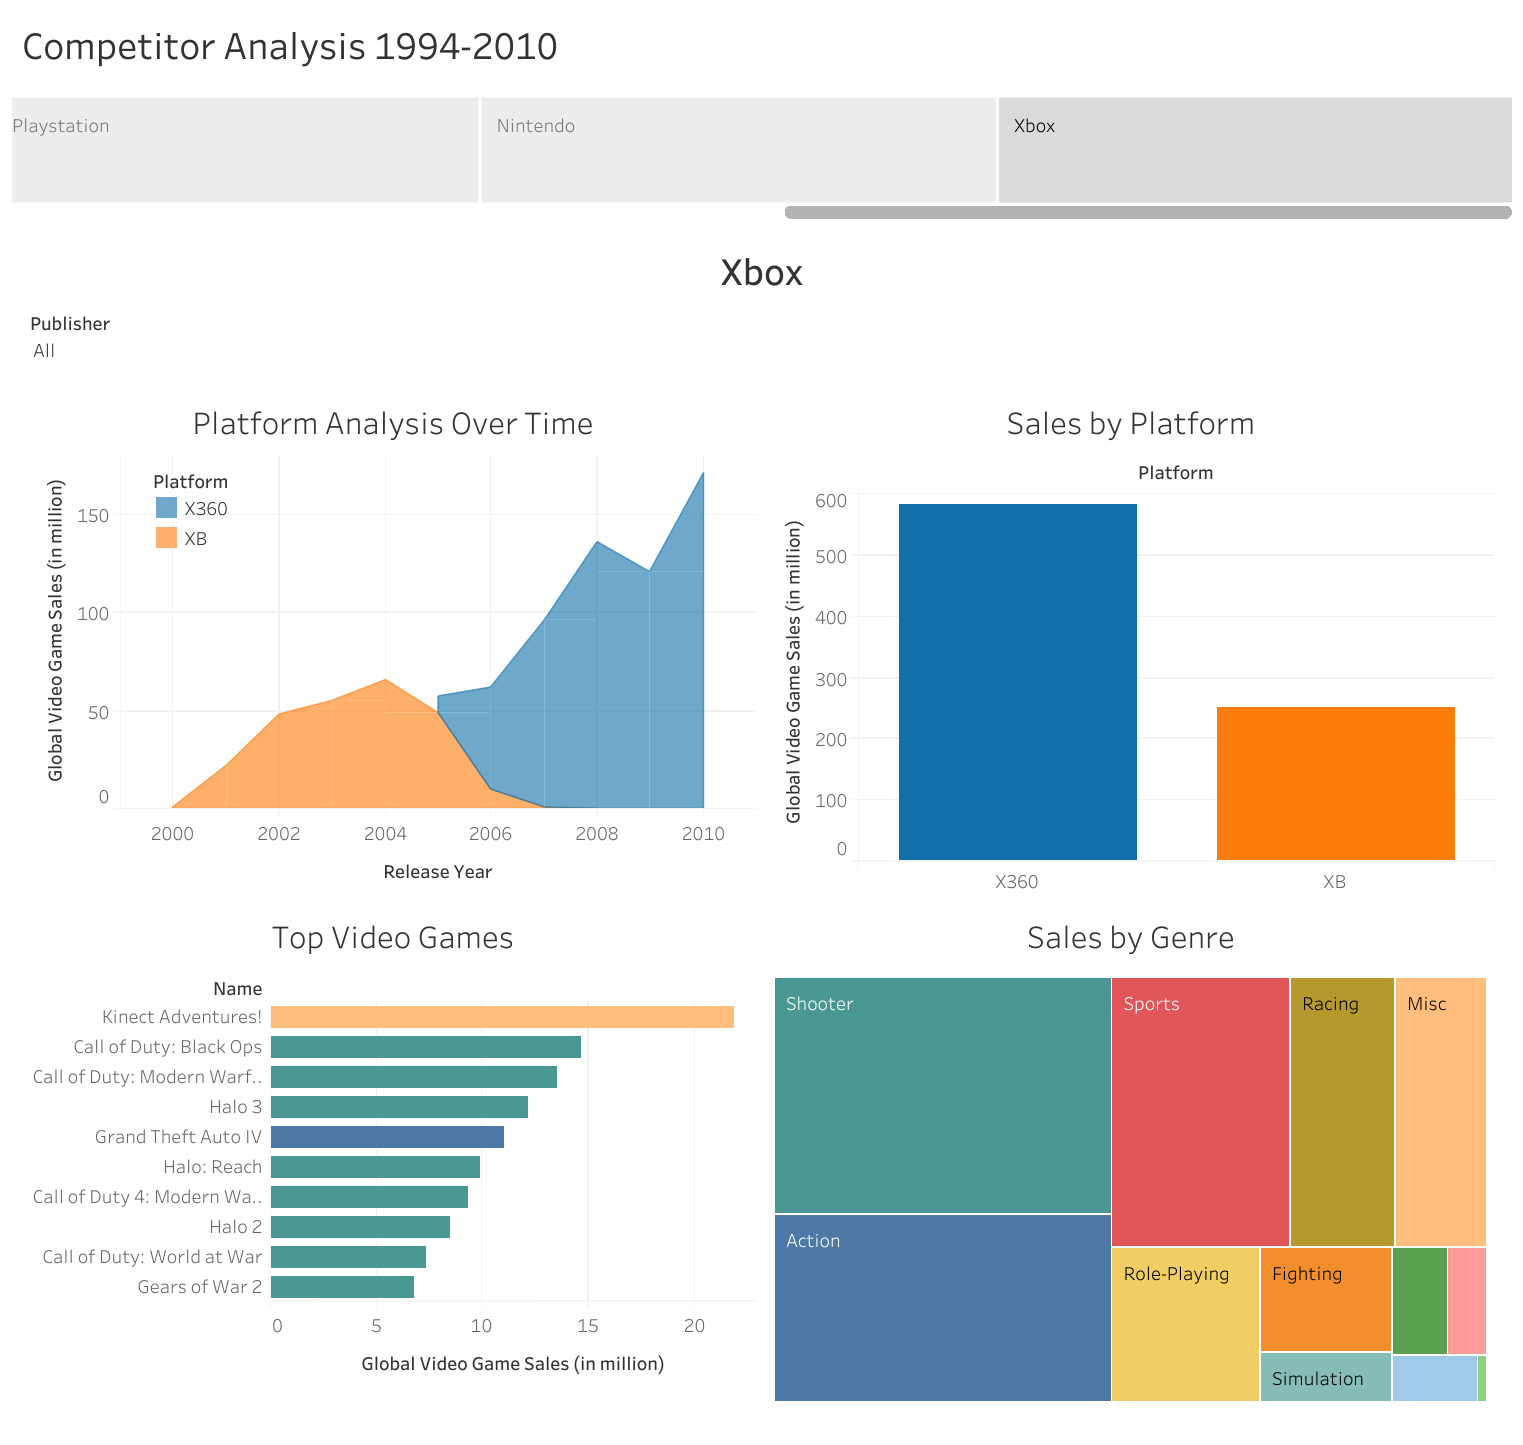

This screenshot's page, from the dashboard's own definition file:
{"tool":"tableau","page":{"name":"Xbox","canvas":[1000,800],"ordinal":2},"visuals":[{"type":"title","box":[8,8,984,41]},{"type":"filter","title":"Platform Analysis Over Time - MSFT","param":"[federated.04p6wim1lbm8om1cbxjb90u16m3n].[none:Publisher:nk]","box":[8,49,984,52]},{"type":"worksheet","title":"Platform Analysis Over Time - MSFT","mark":"Area","rows":["Global_Sales"],"cols":["Release Year"],"box":[8,101,492,345.5]},{"type":"worksheet","title":"Sales by Platform - MSFT","mark":"Automatic","rows":["Global_Sales"],"cols":["Platform"],"box":[500,101,492,345.5]},{"type":"legend","title":"Platform Analysis Over Time - MSFT","param":"[federated.04p6wim1lbm8om1cbxjb90u16m3n].[none:Platform:nk]","box":[93,158,140,58]},{"type":"worksheet","title":"Top Video Games - MSFT","mark":"Automatic","rows":["Name"],"cols":["Global_Sales"],"box":[8,446.5,492,345.5]},{"type":"worksheet","title":"Sales by Genre - MSFT","mark":"Automatic","box":[500,446.5,492,345.5]}]}

Visuals, with their boxes on the page's 1000x800 design canvas (x1, y1, x2, y2). These are canvas units, not pixel positions in the 1523x1445 screenshot, which may show the page scaled, cropped or inside an application window:
title: x1=8, y1=8, x2=992, y2=49
"Platform Analysis Over Time - MSFT" filter: x1=8, y1=49, x2=992, y2=101
"Platform Analysis Over Time - MSFT" worksheet (Area marks): x1=8, y1=101, x2=500, y2=446
"Sales by Platform - MSFT" worksheet: x1=500, y1=101, x2=992, y2=446
"Platform Analysis Over Time - MSFT" legend: x1=93, y1=158, x2=233, y2=216
"Top Video Games - MSFT" worksheet: x1=8, y1=446, x2=500, y2=792
"Sales by Genre - MSFT" worksheet: x1=500, y1=446, x2=992, y2=792
